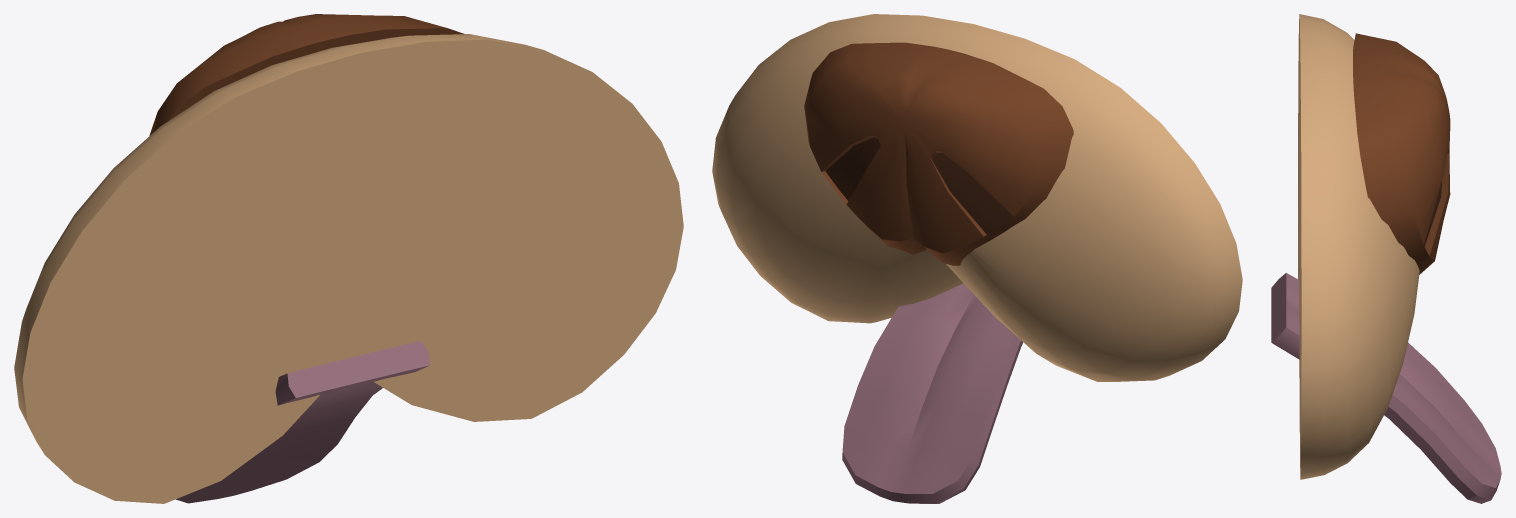
Rendered from Dog Face.fbx.
3 views of the same model, side by side, from view 1: azimuth 30°, elevation 25°; view 2: azimuth 150°, elevation 25°; view 3: azimuth 270°, elevation 25° (orthographic). The views are drawn at different scales.
Visible parts, largest first — view 1: 0.dog face; view 2: 0.dog face; view 3: 0.dog face.
Part boxes in pixels (x1,y1,x2,y2): 0.dog face: (14,14,683,503); 0.dog face: (712,14,1242,503); 0.dog face: (1271,14,1501,503).
Size of the model in its own units: 81.25 by 60.95 by 29.17.
